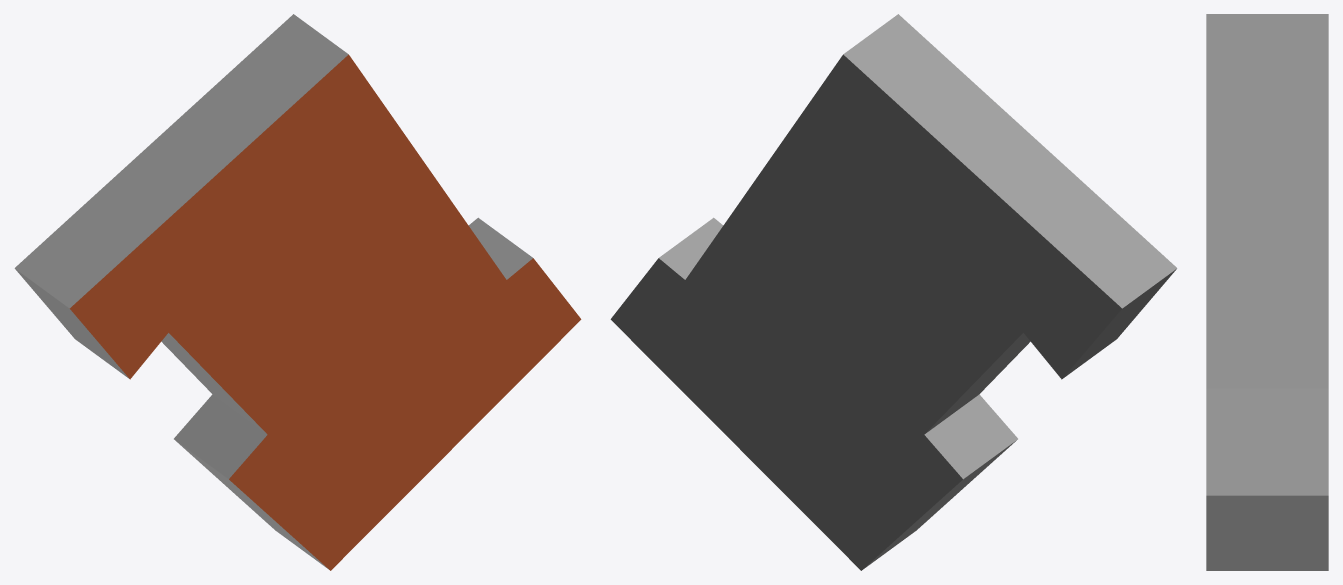
The model's file is construction_5515_assumed_A_Casa_h6m.obj.
3 views of the same model, side by side, from view 1: azimuth 30°, elevation 25°; view 2: azimuth 150°, elevation 25°; view 3: azimuth 270°, elevation 25° (orthographic). The views are drawn at different scales.
Visible parts, largest first — view 1: construction_5515_assumed_A_Casa; view 2: construction_5515_assumed_A_Casa; view 3: construction_5515_assumed_A_Casa.
Part boxes in pixels (x1,y1,x2,y2): construction_5515_assumed_A_Casa: (14, 14, 581, 570); construction_5515_assumed_A_Casa: (610, 14, 1177, 570); construction_5515_assumed_A_Casa: (1206, 14, 1328, 570).
Size of the model in its own units: 32.12 by 30.72 by 6.
